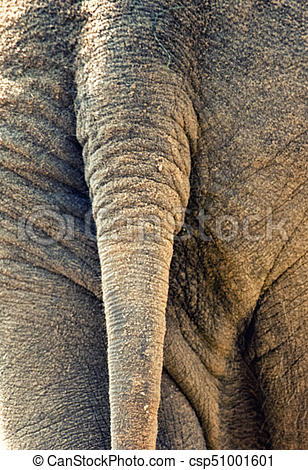elephant: (1, 4, 308, 448)
